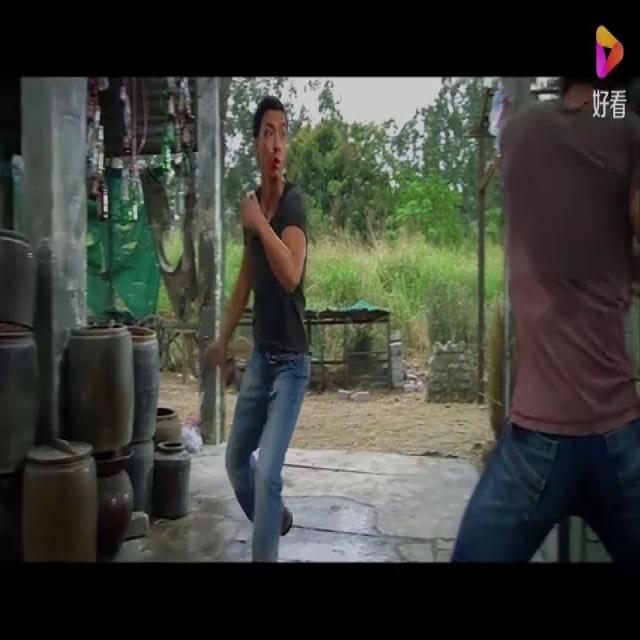non-fight: (436, 2, 639, 566), (181, 80, 343, 565)
